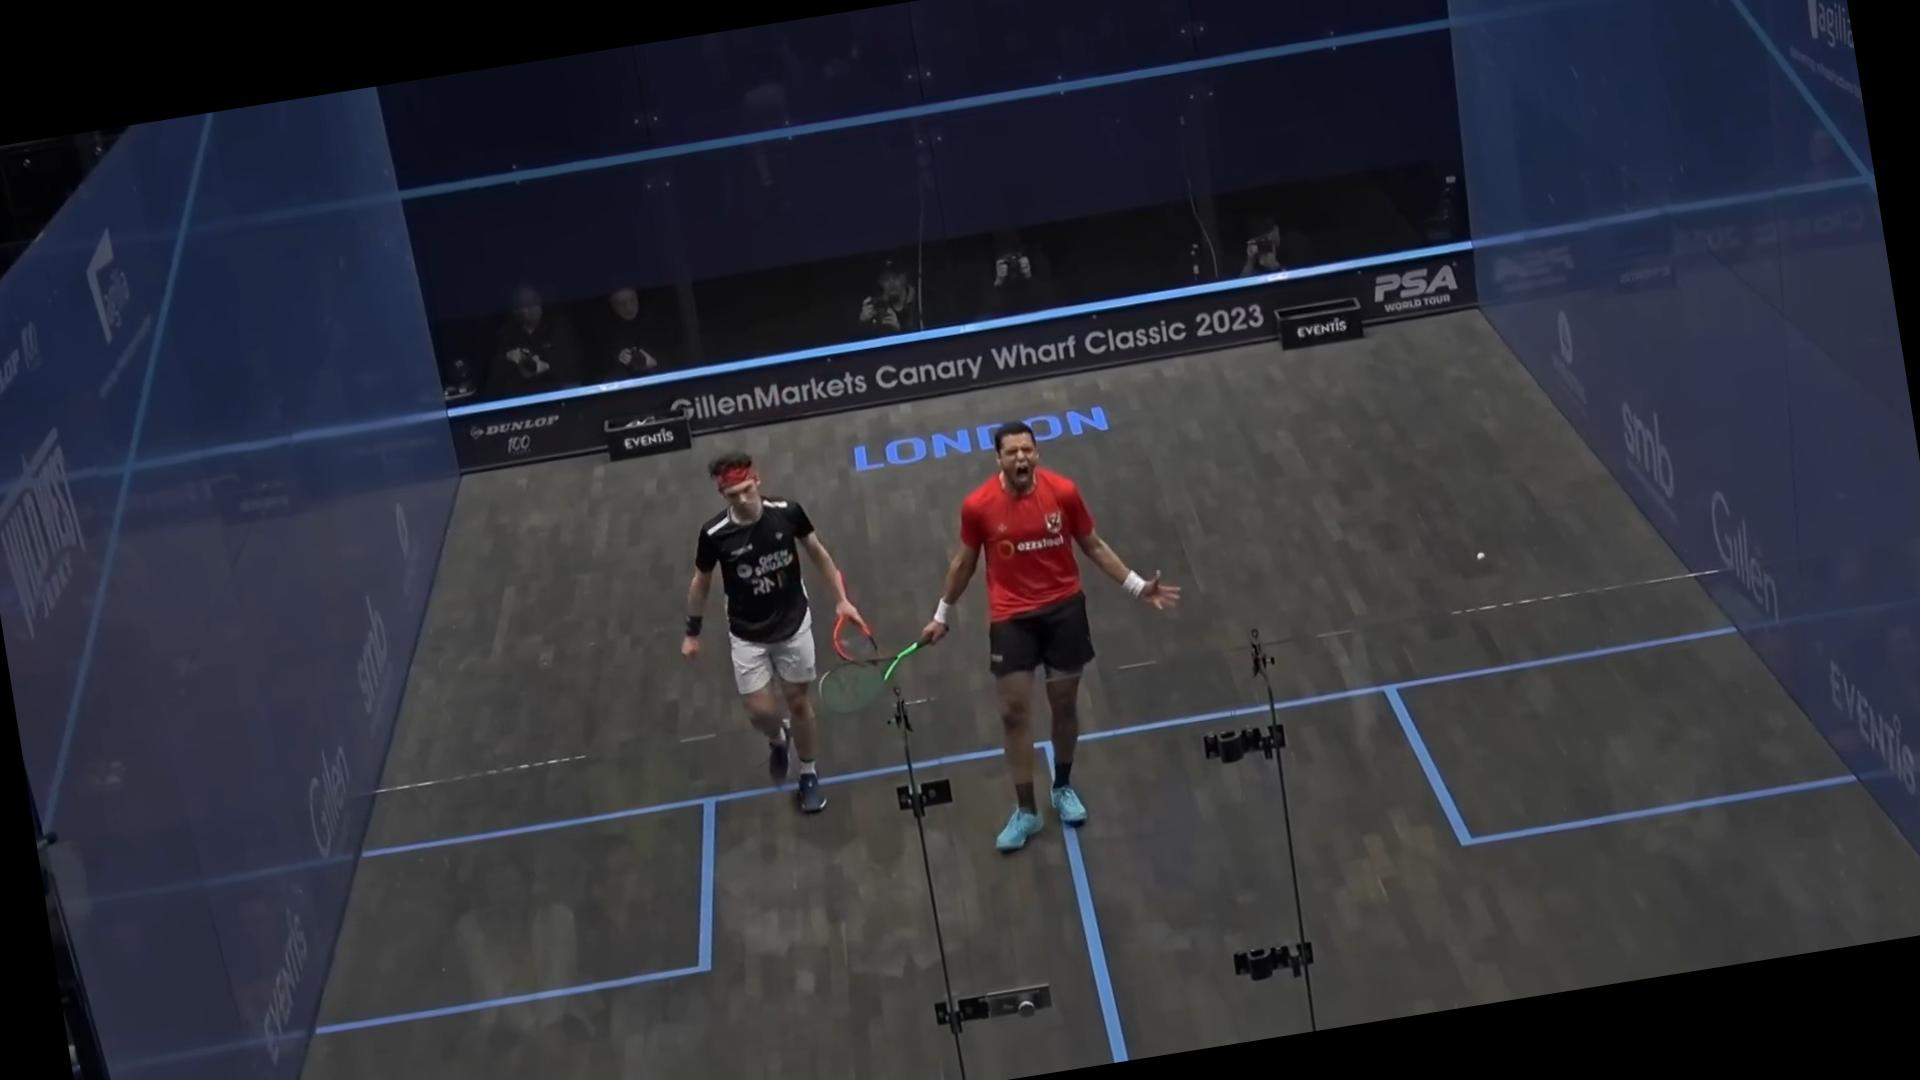Racket: (811, 633, 940, 724), (833, 599, 886, 670)
